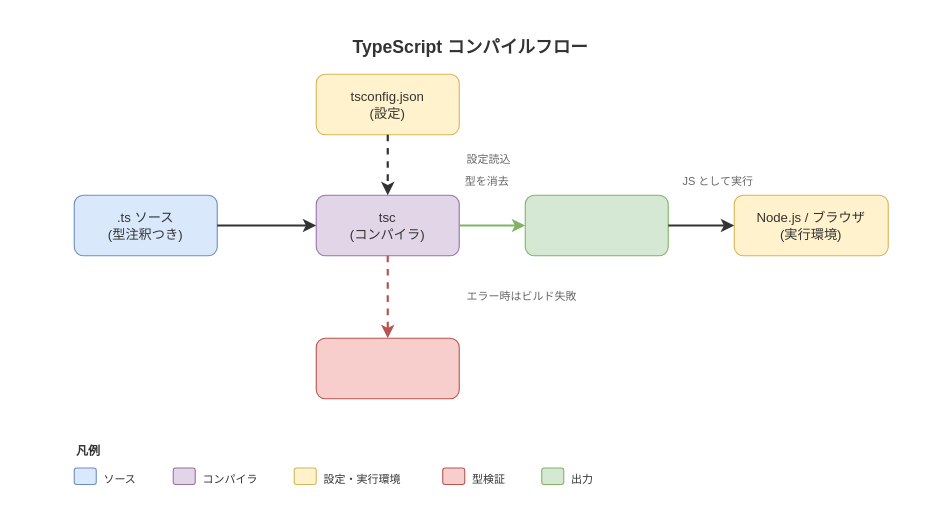
Image size: 939x532. Some labels were removed from this diagram. The centre of each missing label's shape, as x and y in pixels:
.js 出力 (型情報なし): [596,225]
型チェッカー (整合性を検証): [387,368]
